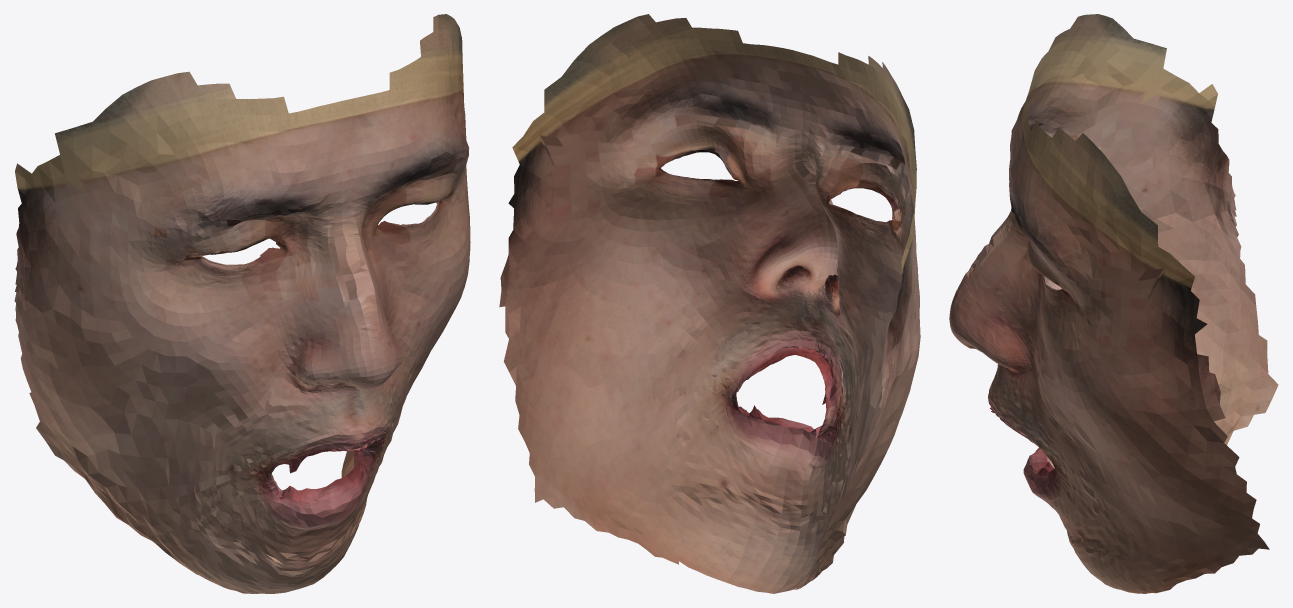
The model's file is 3_mouth_stretch.obj.
The picture shows the model from 3 angles, left to right: view 1: azimuth 30°, elevation 25°; view 2: azimuth 150°, elevation 25°; view 3: azimuth 270°, elevation 25°; orthographic projection. The views are drawn at different scales.
Size of the model in its own units: 173 by 218 by 126.
1 material, 1 textured.
